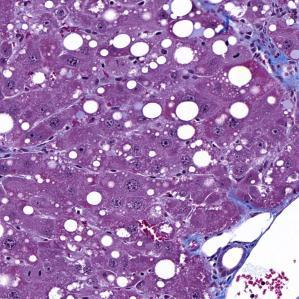fibrosis: (241, 15, 299, 90)
